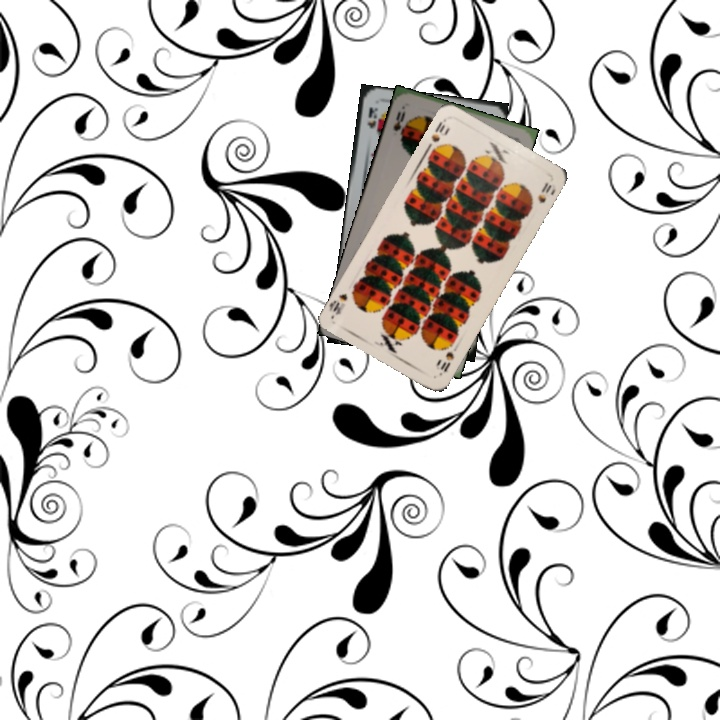S10: (422, 116, 449, 155), (436, 347, 457, 375)
SK: (363, 103, 380, 131)
SO: (389, 107, 408, 134)
